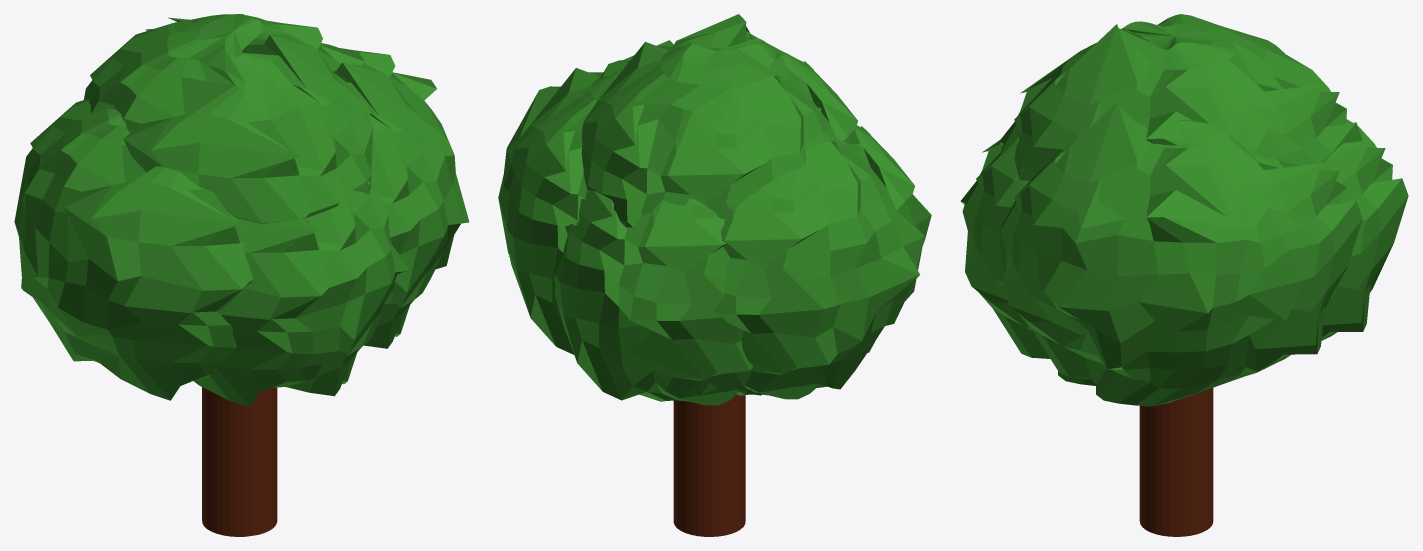
File: tree1.fbx
3 views of the same model, side by side, from view 1: azimuth 30°, elevation 25°; view 2: azimuth 150°, elevation 25°; view 3: azimuth 270°, elevation 25° (orthographic). The views are drawn at different scales.
Parts seen in each view (by area): view 1: Sphere.002, Sphere, Sphere.004, Sphere.001, Cylinder; view 2: Sphere.002, Sphere, Sphere.003, Sphere.001, Cylinder; view 3: Sphere.001, Sphere, Cylinder, Sphere.003, Sphere.004.
Boxes of the visible parts, box(x1,y1,x2,y2) form: Sphere.002: box(14, 100, 253, 400); Sphere: box(84, 14, 373, 223); Sphere.004: box(194, 176, 408, 407); Sphere.001: box(320, 43, 469, 348); Cylinder: box(202, 387, 277, 536); Sphere.002: box(696, 103, 931, 399); Sphere: box(581, 14, 860, 227); Sphere.003: box(554, 190, 761, 405); Sphere.001: box(498, 40, 673, 354); Cylinder: box(673, 394, 745, 536); Sphere.001: box(1000, 102, 1362, 406); Sphere: box(999, 14, 1362, 181); Cylinder: box(1139, 388, 1213, 536); Sphere.003: box(1321, 119, 1408, 340); Sphere.004: box(960, 138, 1095, 385).
Bounding box in the file's own units: 470 × 552 × 450.
